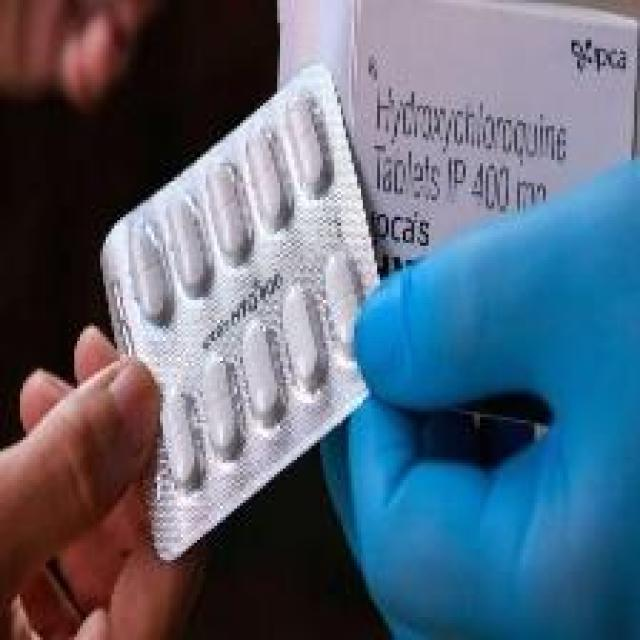Medicine: (95, 58, 403, 528)
